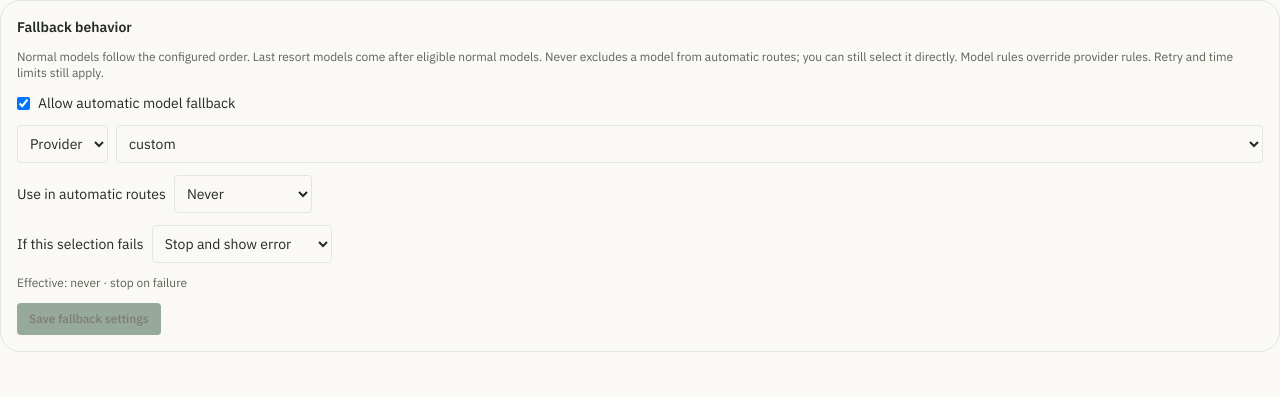
Test: saves provider and model policies and global fallback without special provider names
Step 1. Select "Last resort" in the dropdown named "Automatic fallback participation" → coordinates (243, 194), box [174, 175, 312, 213]
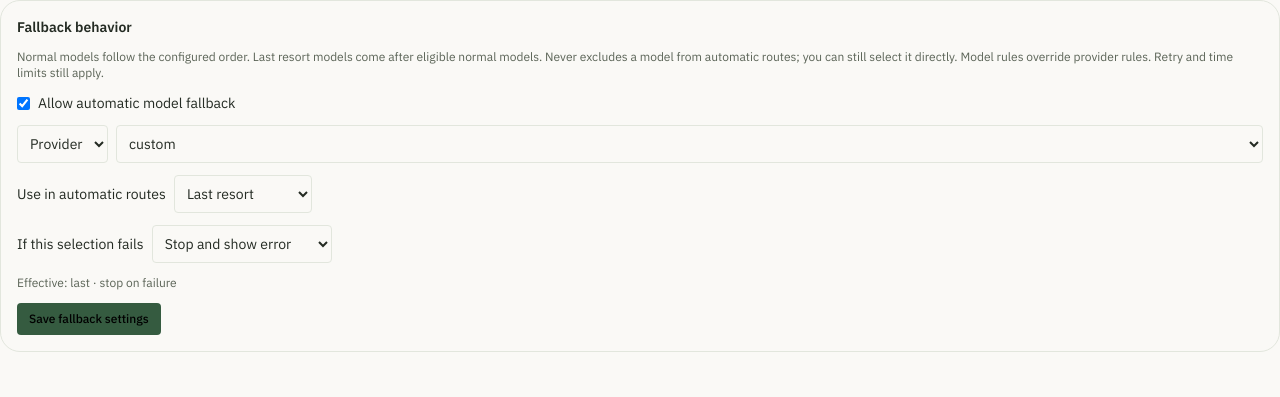
Step 2. Select "Model" in the dropdown named "Fallback rule scope" → coordinates (62, 144), box [17, 125, 108, 163]
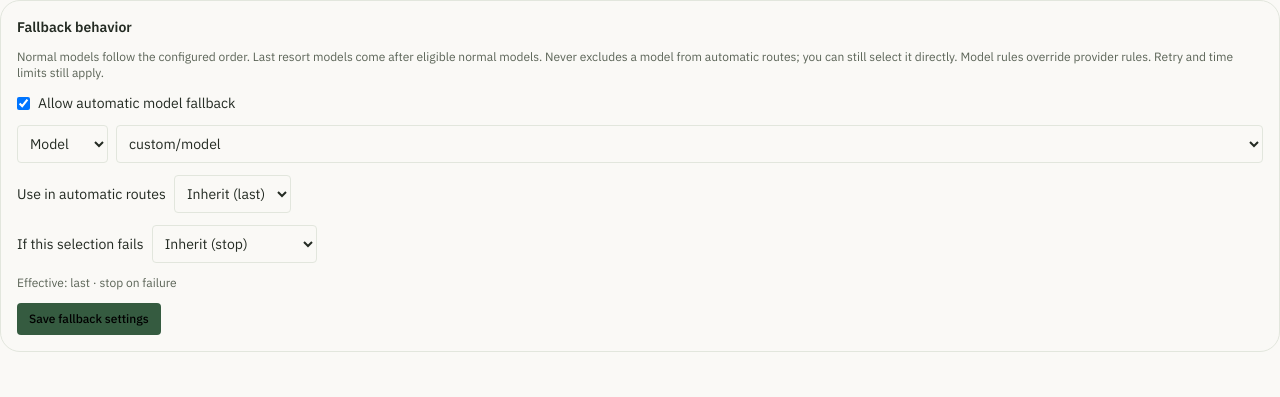
Expected: the text "Effective: last · stop on failure" is shown, [17, 275, 177, 290]
Step 3. Select "Normal" in the dropdown named "Automatic fallback participation" → coordinates (232, 194), box [174, 175, 291, 213]
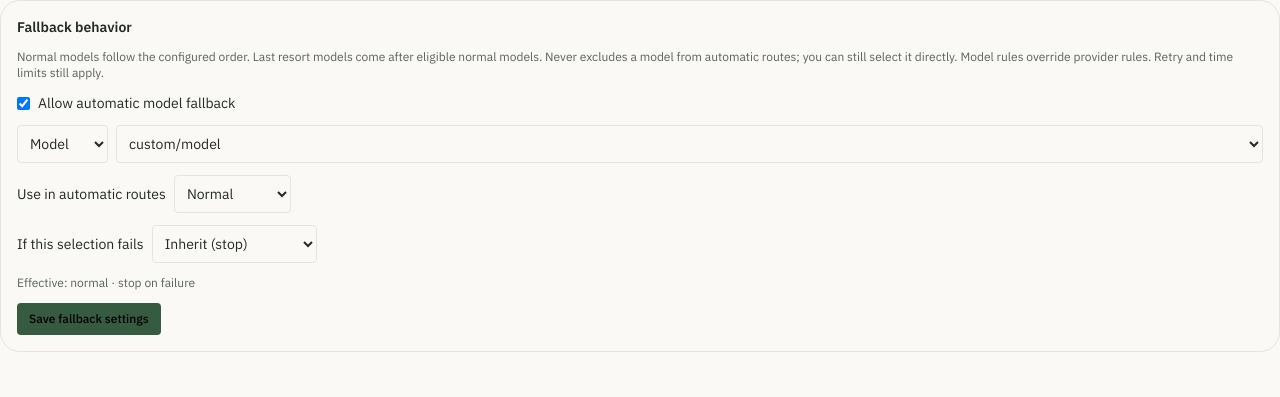
Step 4. Select "Allow fallback" in the dropdown named "Fallback after selected model fails" → coordinates (234, 244), box [152, 225, 317, 263]
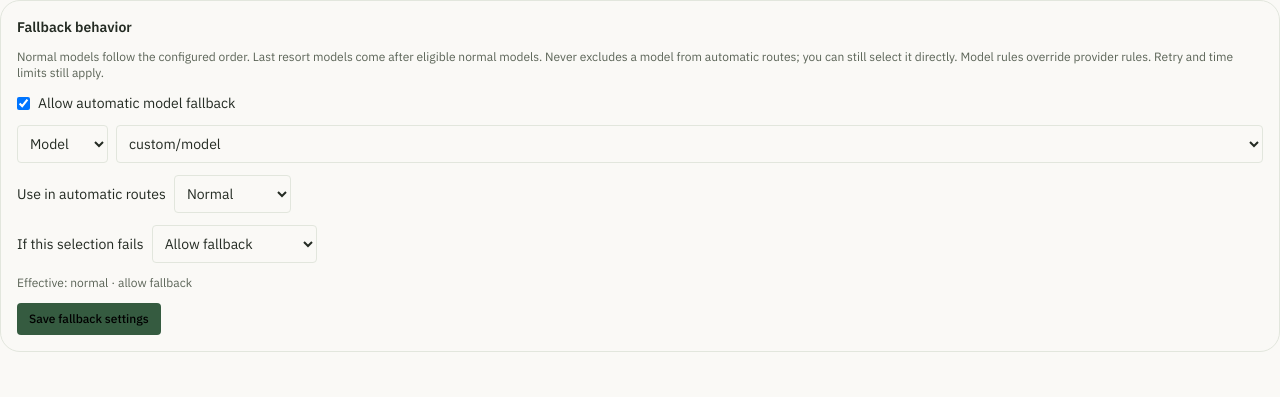
Step 5. Click the checkbox labelled "Allow automatic model fallback" → coordinates (24, 103), box [17, 96, 30, 110]
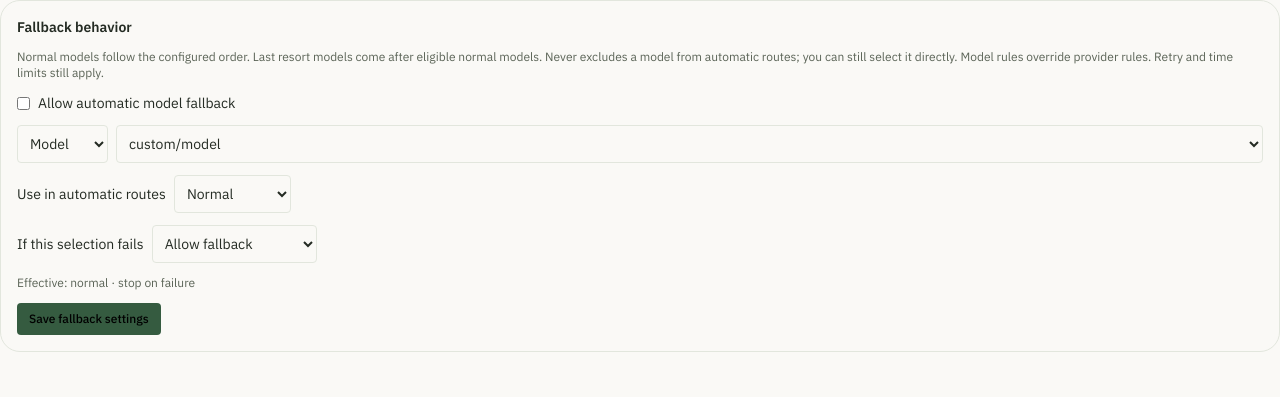
Step 6. Click the button "Save fallback settings" → coordinates (89, 319), box [17, 303, 161, 335]
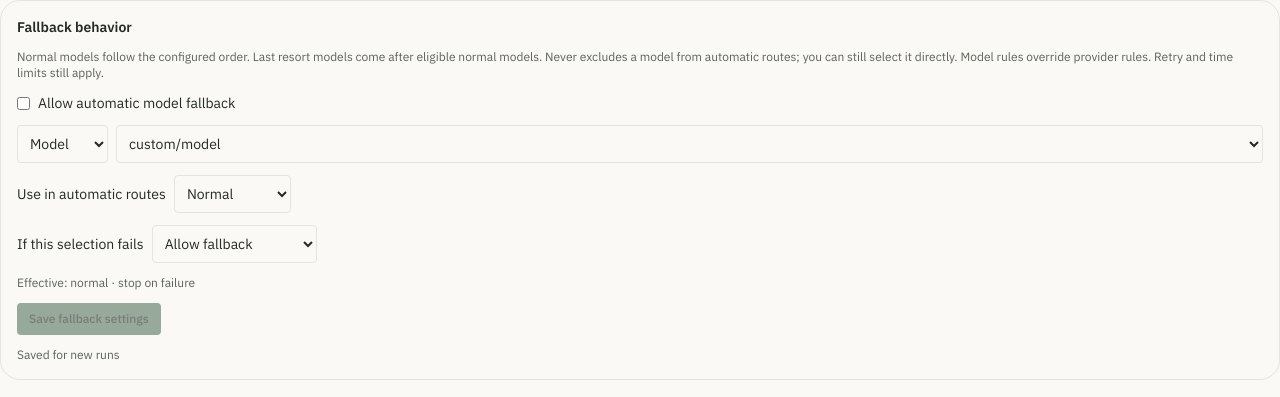
Expected: the message reads "Saved for new runs", [17, 347, 120, 362]
